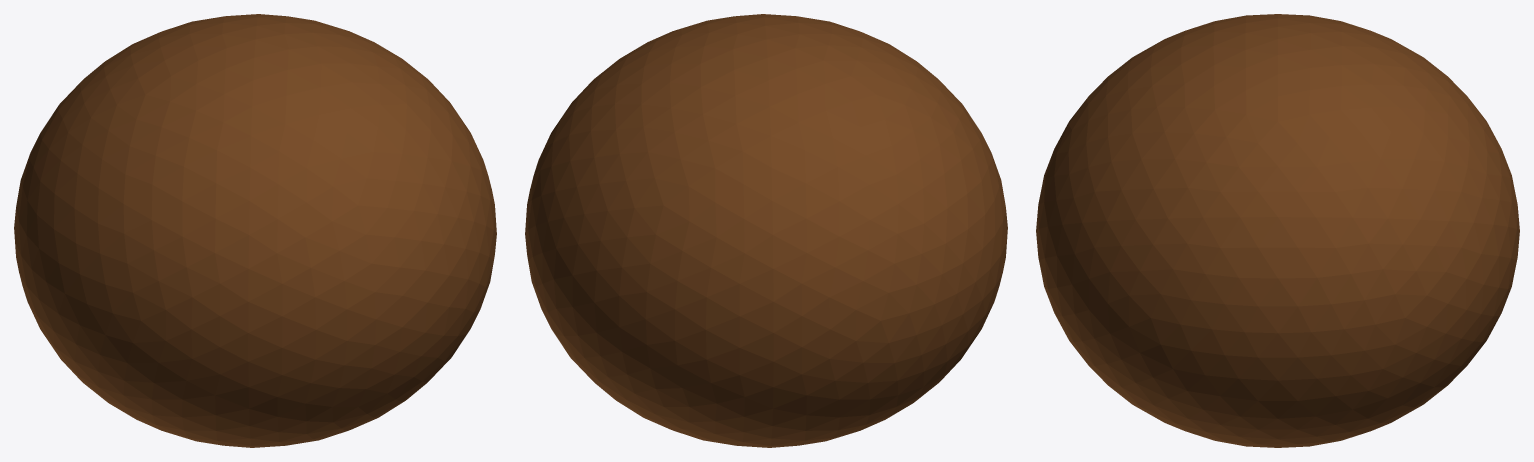
Rendered from shoulder_left.obj.
3 views of the same model, side by side, from view 1: azimuth 30°, elevation 25°; view 2: azimuth 150°, elevation 25°; view 3: azimuth 270°, elevation 25° (orthographic).
Bounding box in the file's own units: 0.064 × 0.056 × 0.064.
